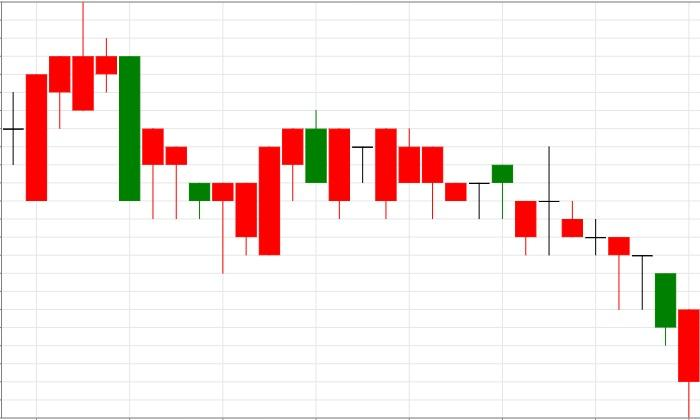hammer_rise: (72, 1, 234, 274)
